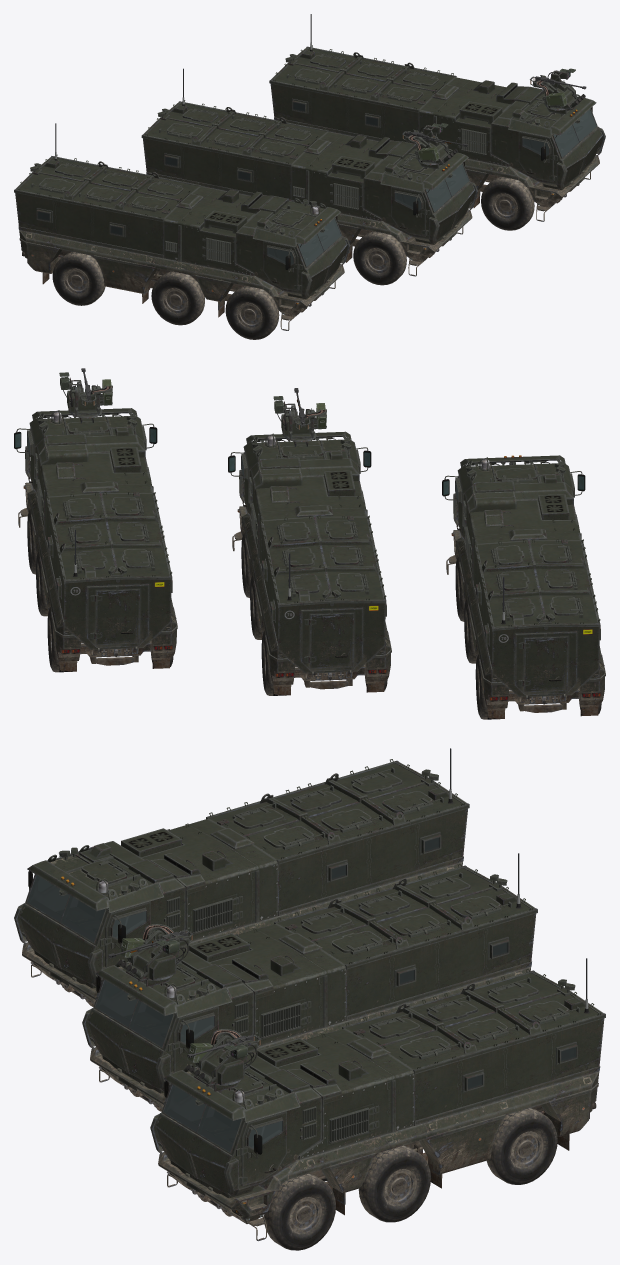
File: typhoon-k_-_all_modifications__broken_arrow.glb
3 views of the same model, one above another, from view 1: azimuth 30°, elevation 25°; view 2: azimuth 150°, elevation 25°; view 3: azimuth 270°, elevation 25° (orthographic). The views are drawn at different scales.
Visible parts, largest first — view 1: Object_4, Object_6, Object_8, Object_5, Object_10, Object_9, Object_7; view 2: Object_4, Object_6, Object_8, Object_9, Object_7, Object_5; view 3: Object_8, Object_4, Object_6, Object_9, Object_10, Object_7.
Boxes of the visible parts, box(x1,y1,x2,y2) form: Object_4: box(14, 123, 350, 330); Object_6: box(141, 68, 478, 276); Object_8: box(269, 14, 605, 221); Object_5: box(52, 252, 279, 339); Object_10: box(38, 102, 596, 266); Object_9: box(481, 68, 585, 230); Object_7: box(353, 123, 457, 285); Object_4: box(442, 455, 605, 719); Object_6: box(228, 431, 391, 695); Object_8: box(14, 408, 177, 672); Object_9: box(27, 372, 173, 672); Object_7: box(241, 396, 387, 695); Object_5: box(455, 556, 601, 719); Object_8: box(150, 958, 605, 1241); Object_4: box(14, 748, 469, 1006); Object_6: box(82, 853, 537, 1111); Object_9: box(186, 1029, 557, 1250); Object_10: box(27, 837, 575, 1152); Object_7: box(118, 924, 192, 1101).
Size of the model in its own units: 15.07 by 3.89 by 10.26.
Materials: 4 (3 with a texture image).
